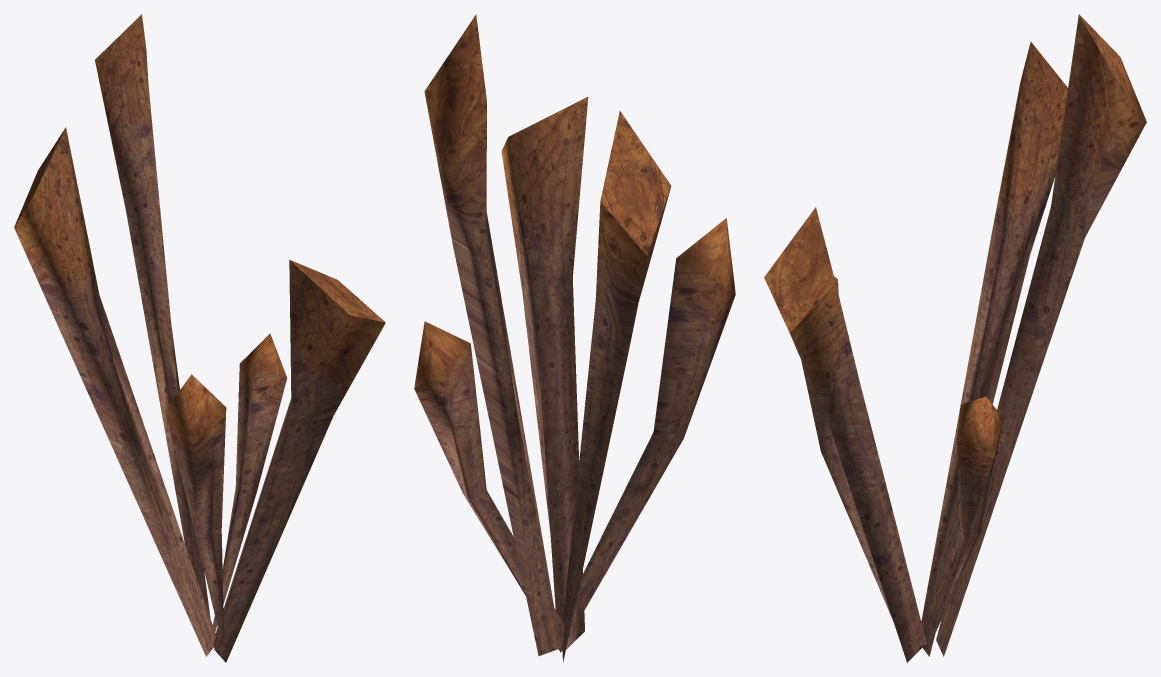
Rendered from Shroom_Plant2_4_L3.fbx.
3 views of the same model, side by side, from view 1: azimuth 30°, elevation 25°; view 2: azimuth 150°, elevation 25°; view 3: azimuth 270°, elevation 25° (orthographic). The views are drawn at different scales.
Parts seen in each view (by area): view 1: polySurface297; view 2: polySurface297; view 3: polySurface297.
Part boxes in pixels (x1,y1,x2,y2): polySurface297: (14,14,385,662); polySurface297: (414,14,735,662); polySurface297: (764,14,1146,662).
Size of the model in its own units: 46.01 by 105 by 56.5.
